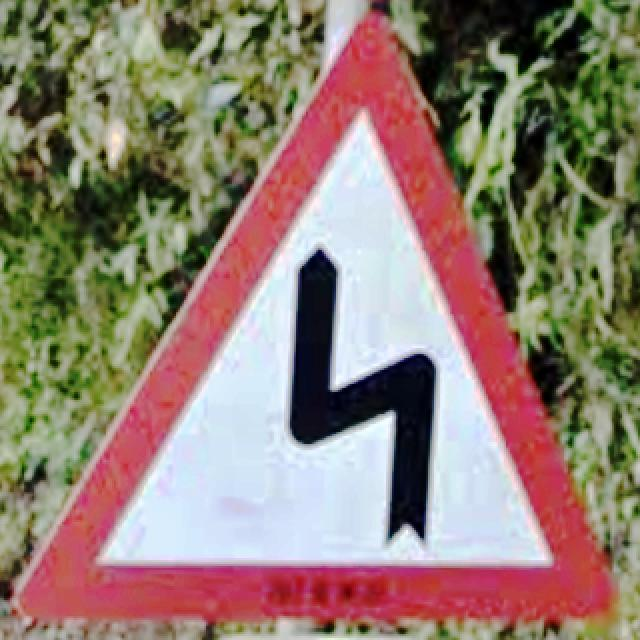doublebendleft: (12, 14, 616, 626)
